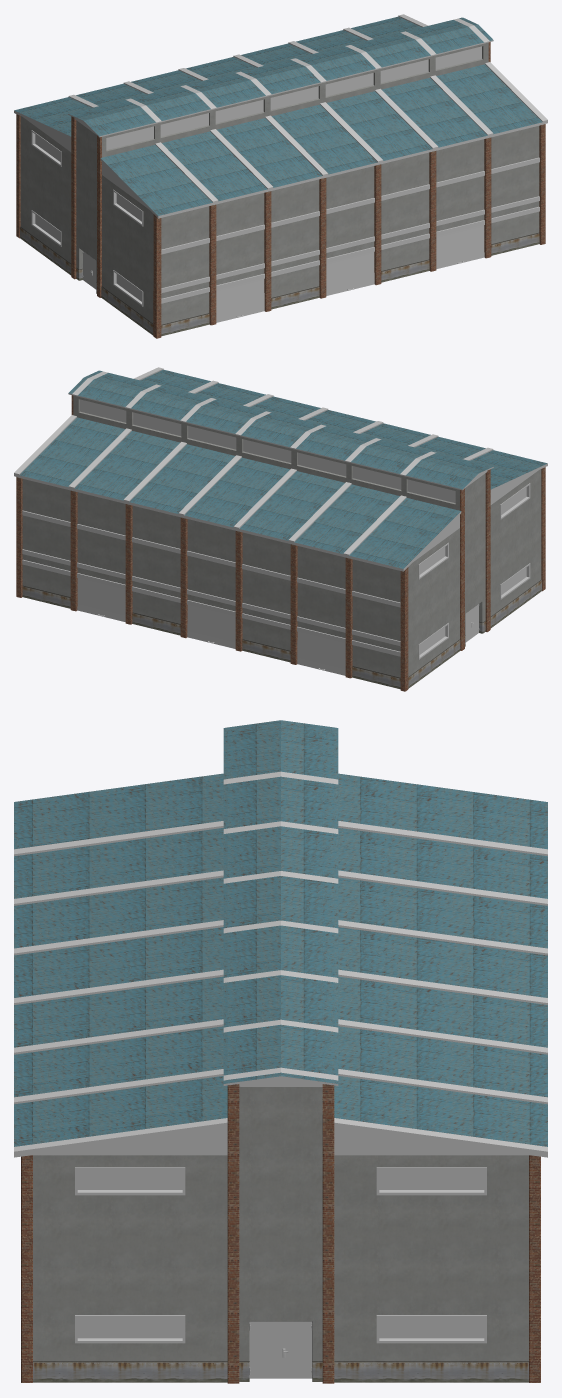
Rendered from WareHouse01.fbx.
3 views of the same model, one above another, from view 1: azimuth 30°, elevation 25°; view 2: azimuth 150°, elevation 25°; view 3: azimuth 270°, elevation 25° (orthographic). The views are drawn at different scales.
Parts seen in each view (by area): view 1: WareHouse01; view 2: WareHouse01; view 3: WareHouse01.
Part boxes in pixels (x1,y1,x2,y2): WareHouse01: (14, 14, 547, 338); WareHouse01: (14, 367, 547, 691); WareHouse01: (14, 720, 547, 1383).
Size of the model in its own units: 56.68 by 22.97 by 35.93.
